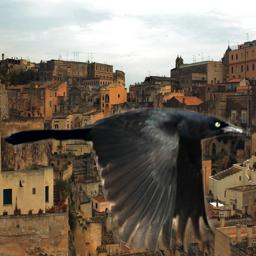Crow: (3, 105, 250, 254)
